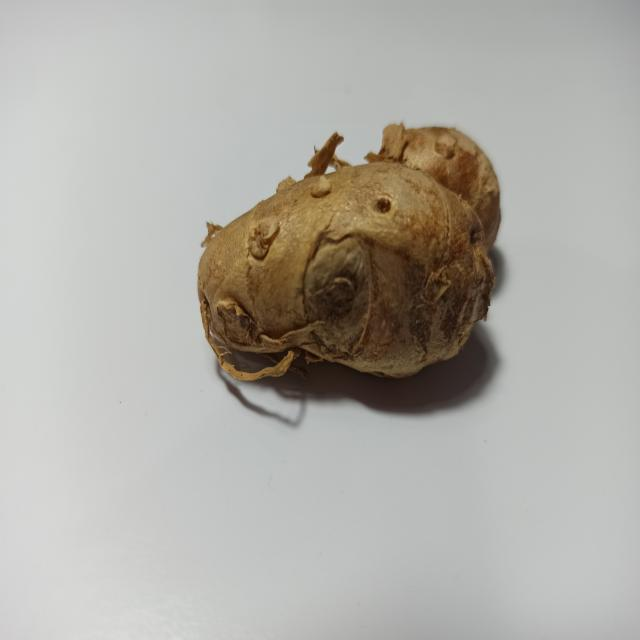ginger: (196, 120, 511, 381)
